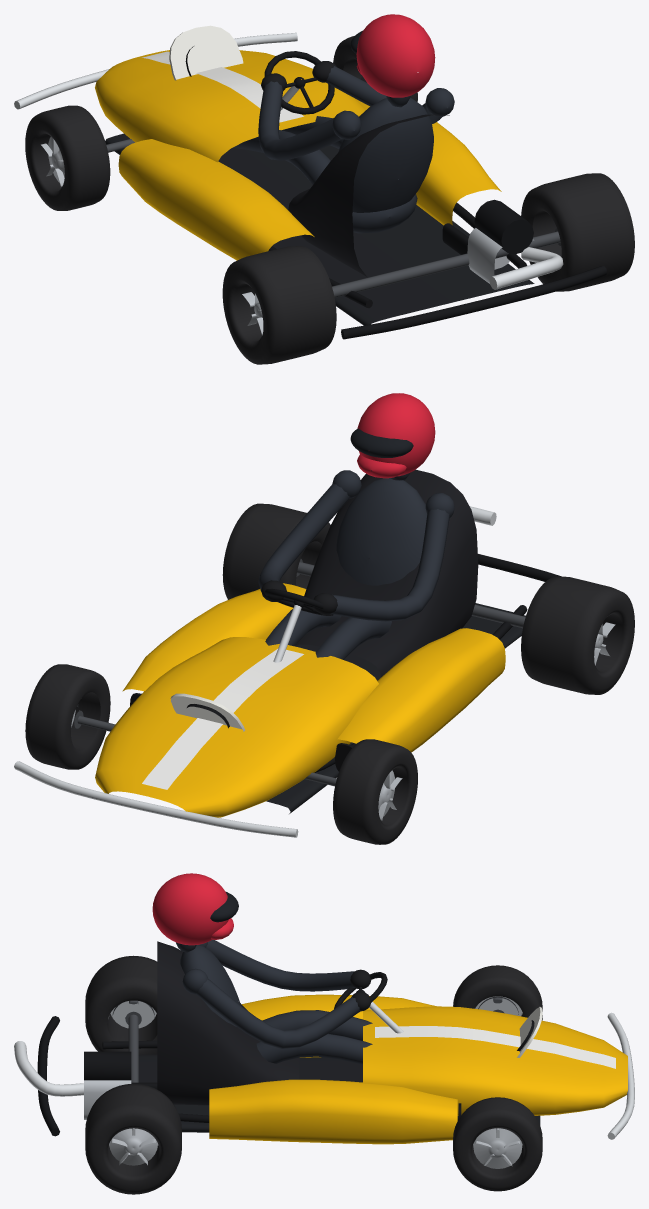
Rendered from go-kart-yellow.38ac7b8f.glb.
3 views of the same model, one above another, from view 1: azimuth 30°, elevation 25°; view 2: azimuth 150°, elevation 25°; view 3: azimuth 270°, elevation 25° (orthographic). The views are drawn at different scales.
Visible parts, largest first — view 1: chassis, wheel_rl, wheel_rr, wheel_fl, steer_wheel, wheel_fr; view 2: chassis, wheel_rl, wheel_fl, wheel_fr, wheel_rr, steer_wheel; view 3: chassis, wheel_rr, wheel_fr, wheel_rl, wheel_fl.
Part boxes in pixels (bbox=[...]): chassis: bbox=[14, 14, 607, 339]; wheel_rl: bbox=[222, 246, 336, 364]; wheel_rr: bbox=[521, 173, 634, 291]; wheel_fl: bbox=[25, 105, 110, 210]; steer_wheel: bbox=[264, 51, 334, 114]; wheel_fr: bbox=[333, 36, 417, 101]; chassis: bbox=[14, 393, 561, 837]; wheel_rl: bbox=[521, 576, 634, 694]; wheel_fl: bbox=[333, 739, 417, 844]; wheel_fr: bbox=[25, 664, 110, 769]; wheel_rr: bbox=[222, 503, 330, 599]; steer_wheel: bbox=[264, 588, 333, 615]; chassis: bbox=[14, 873, 634, 1144]; wheel_rr: bbox=[85, 1083, 181, 1194]; wheel_fr: bbox=[453, 1097, 542, 1191]; wheel_rl: bbox=[85, 955, 157, 1054]; wheel_fl: bbox=[453, 965, 542, 1020].
Bounding box in the file's own units: 1.57 × 1.13 × 2.63.
